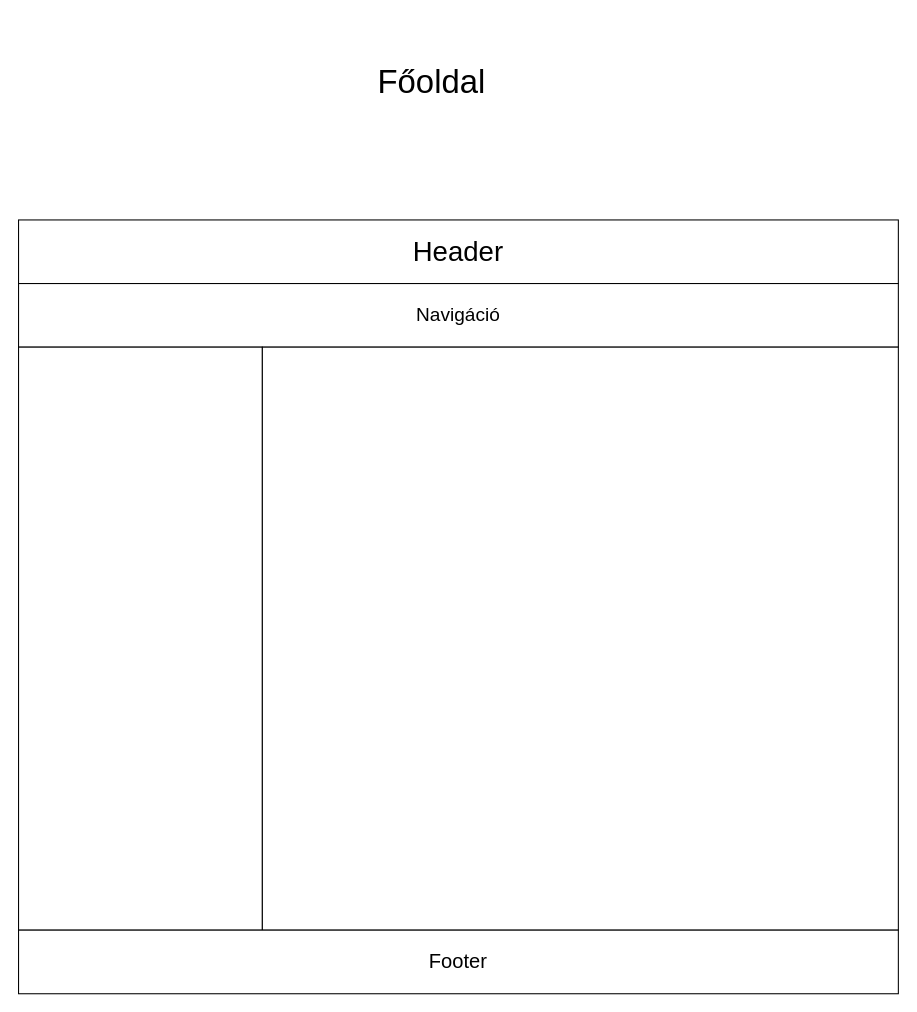
Image size: 917x1012. Some labels were removed from this diagram. The centre of each missing label's shape, as x and y in pixels:
Article: point 579,638
Aside: point 139,638
